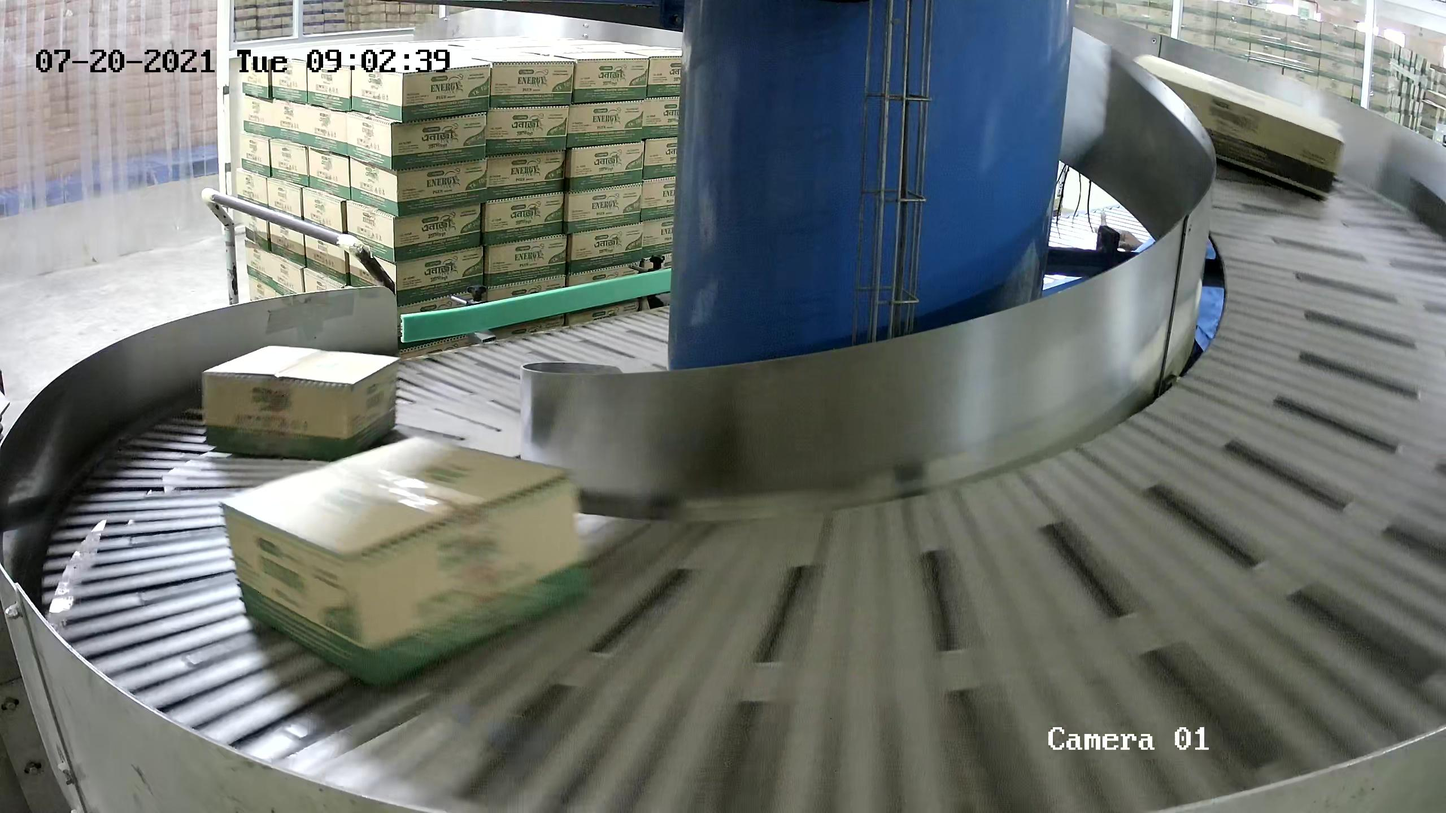Box: (218, 432, 594, 694), (1131, 53, 1346, 201), (200, 342, 404, 462)
